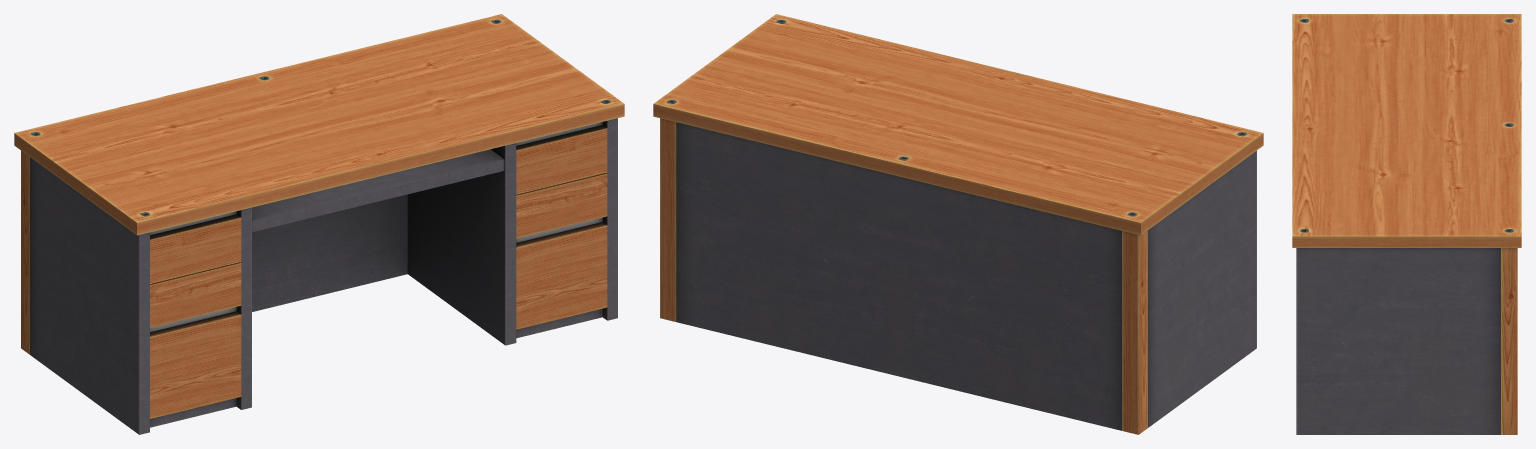
The model's file is office_desk.dae.
3 renders of one model, left to right at view 1: azimuth 30°, elevation 25°; view 2: azimuth 150°, elevation 25°; view 3: azimuth 270°, elevation 25°, orthographic. The views are drawn at different scales.
Visible parts, largest first — view 1: Desk; view 2: Desk; view 3: Desk.
Part boxes in pixels (x1,y1,x2,y2): Desk: (14,14,624,434); Desk: (653,14,1263,434); Desk: (1292,14,1521,434).
Bounding box in the file's own units: 177 × 77.19 × 74.46.
